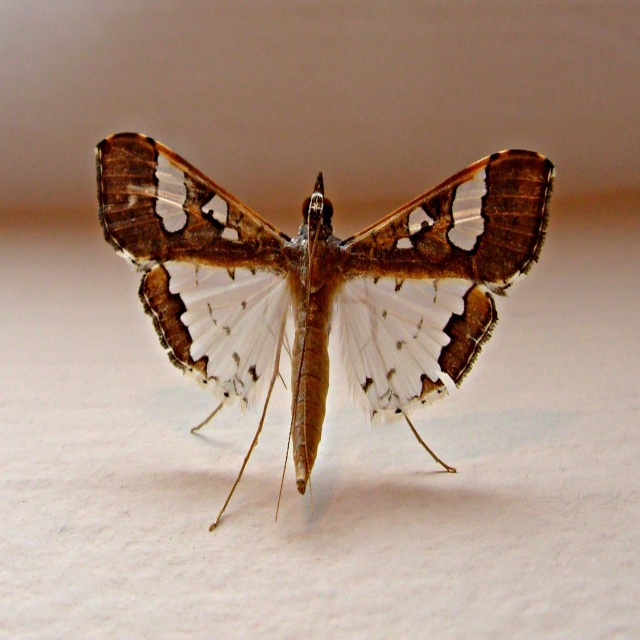Butterfly: (104, 129, 532, 528)
